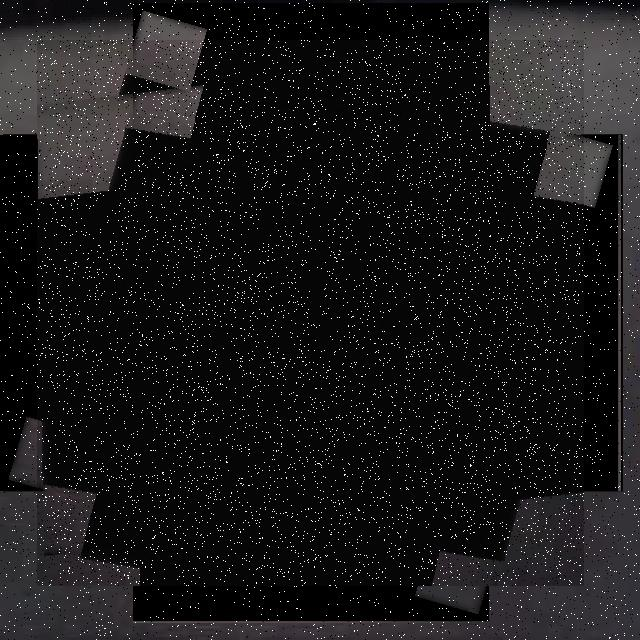dua puluh ribu rupiah: (37, 40, 584, 586)
